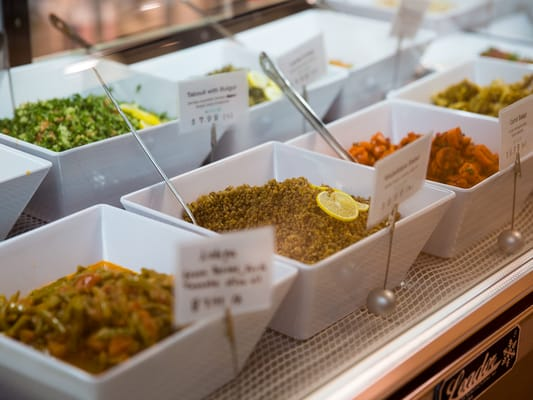salad: (258, 51, 355, 163)
